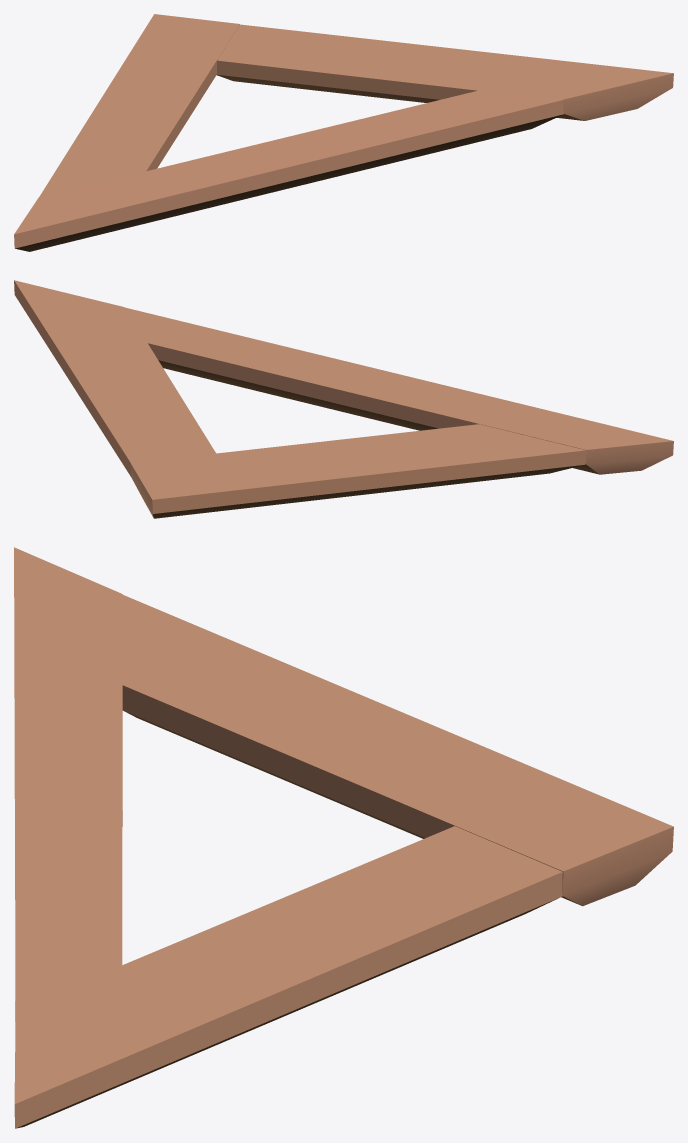
Rendered from rt90_wood_2_pineSplitLogTriFloorSection1.glb.
3 views of the same model, one above another, from view 1: azimuth 30°, elevation 25°; view 2: azimuth 150°, elevation 25°; view 3: azimuth 270°, elevation 25° (orthographic). The views are drawn at different scales.
Parts seen in each view (by area): view 1: Outside; view 2: Outside; view 3: Outside.
Boxes of the visible parts, box(x1,y1,x2,y2) form: Outside: box(14, 14, 673, 251); Outside: box(14, 280, 673, 518); Outside: box(14, 547, 673, 1128).
Bounding box in the file's own units: 2.86 × 0.1233 × 1.43.
